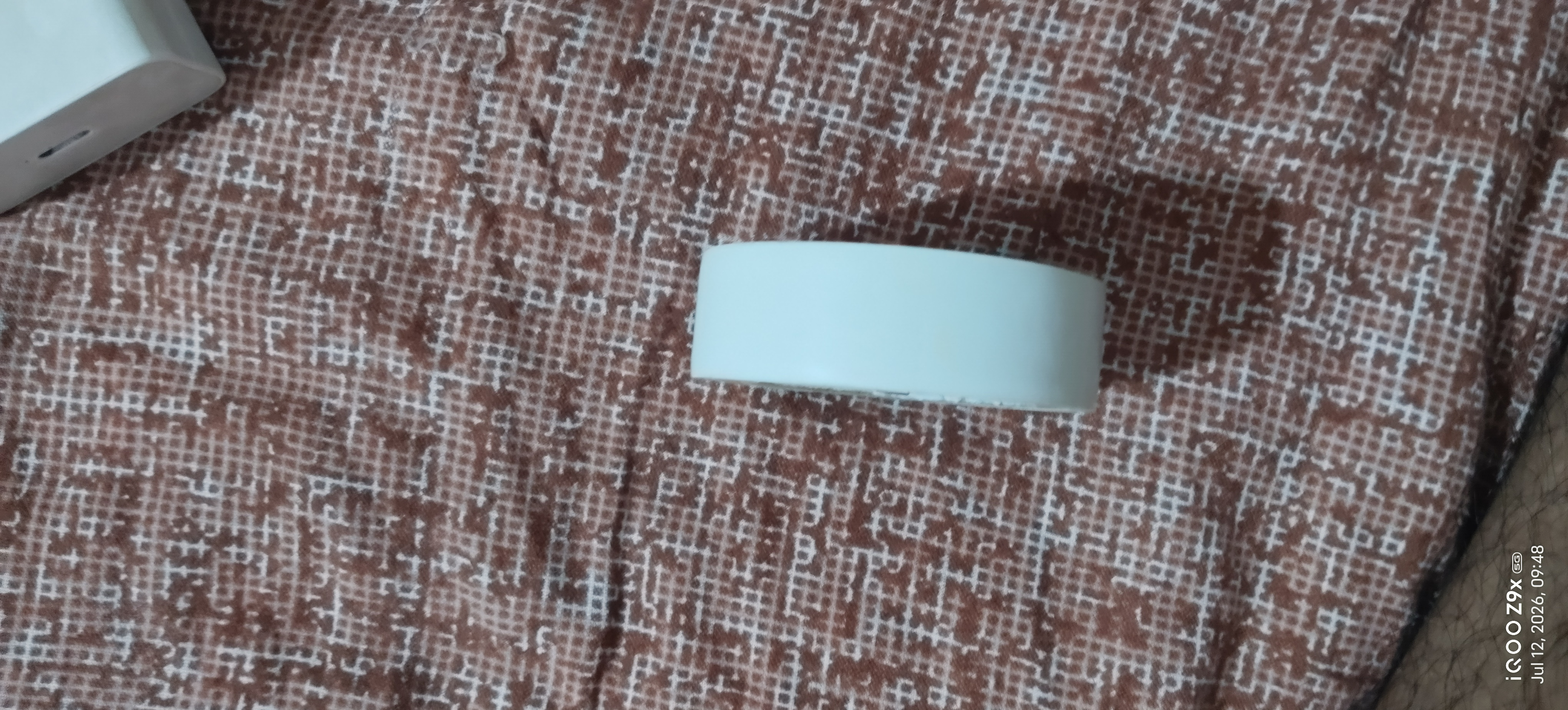charger: (0, 0, 320, 225)
tape_roll: (673, 215, 1170, 488)
